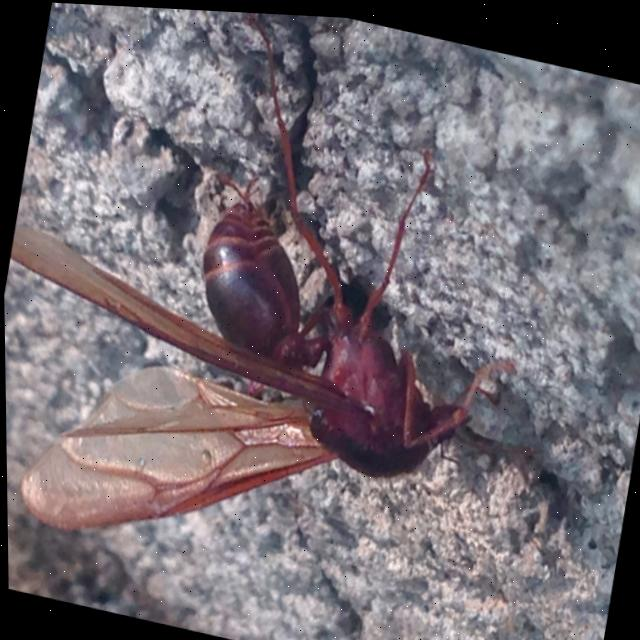Alive-Male-Alate: (0, 0, 570, 624)
